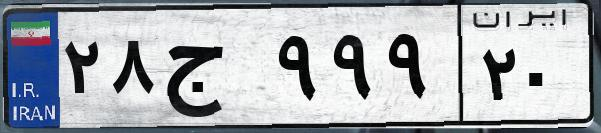0: (525, 38, 570, 115)
2: (57, 26, 110, 100), (475, 38, 525, 113)
8: (110, 28, 158, 98)
9: (270, 28, 330, 110), (385, 28, 445, 110), (330, 28, 385, 110)
ج: (158, 20, 270, 120)
